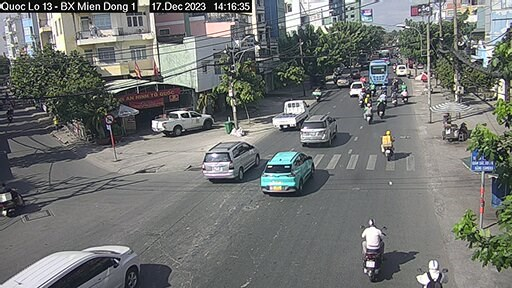bus: (368, 58, 390, 87)
car: (16, 242, 147, 287), (260, 149, 313, 195), (203, 140, 257, 181), (152, 108, 216, 138), (298, 114, 337, 148), (395, 63, 409, 83), (349, 79, 364, 97), (337, 74, 349, 89)
motorbike: (362, 215, 387, 282), (381, 132, 398, 162)
truck: (275, 100, 306, 126)
